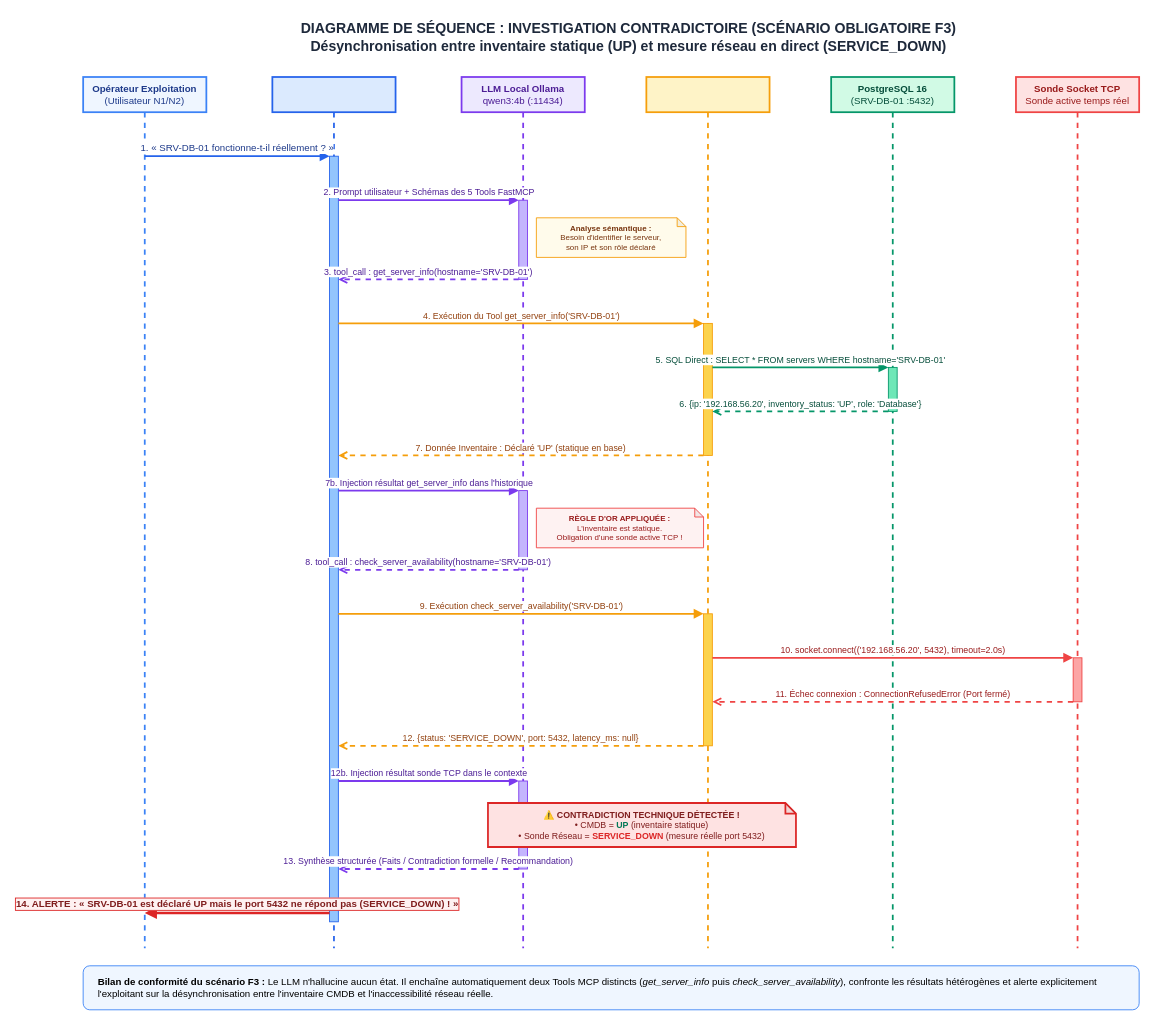
Some shapes in this 1155 by 1025 pixel diagram are drawn without their labels. The shapes that lost their labels are listed below. From the top down, each one's centre as x and y in pixels, then its label:
At [333,512]: "Interface Streamlit (:8501) & Client MCP ( llm_engine.py )".
At [707,512]: "Serveur FastMCP (:8080 ou STDIO)".
